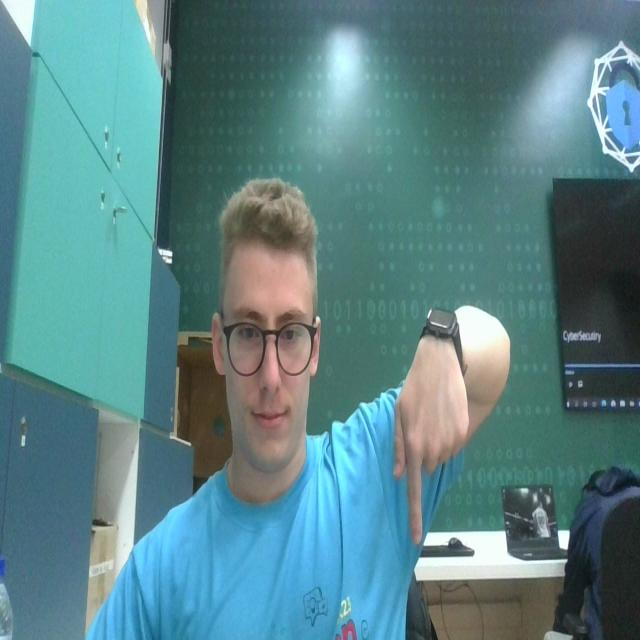Q: (390, 320, 471, 551)
